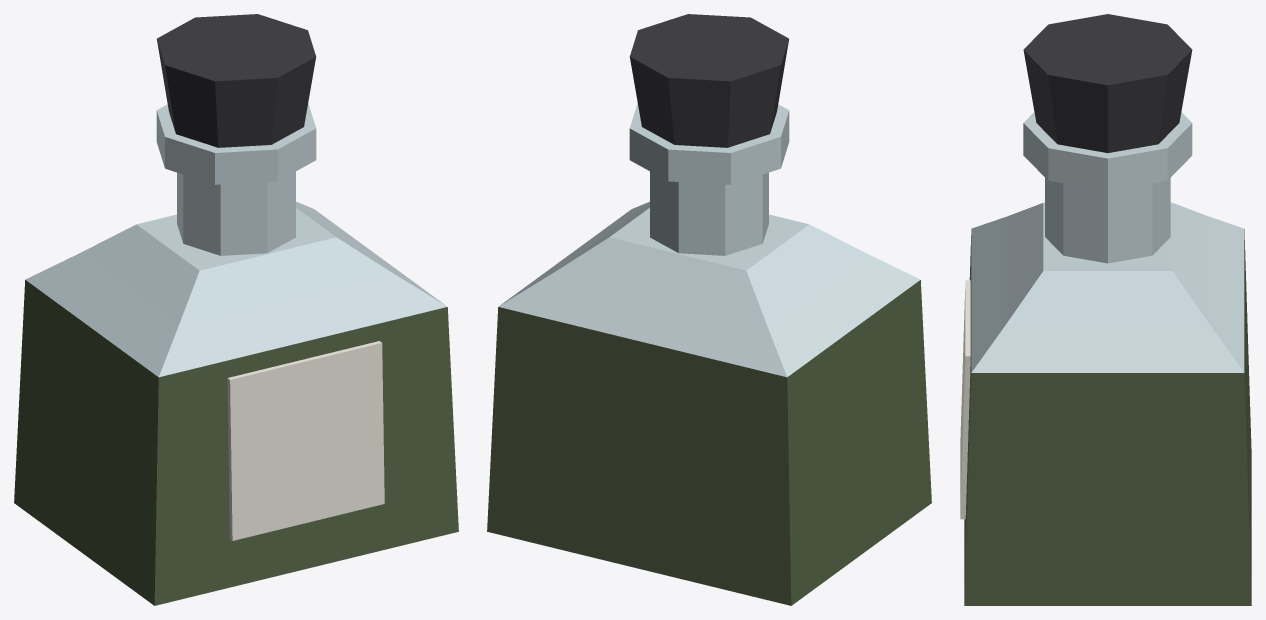
The model's file is vfem2_draught_poison.obj.
The picture shows the model from 3 angles, left to right: view 1: azimuth 30°, elevation 25°; view 2: azimuth 150°, elevation 25°; view 3: azimuth 270°, elevation 25°; orthographic projection. The views are drawn at different scales.
Parts seen in each view (by area): view 1: vfem2_draught_poison; view 2: vfem2_draught_poison; view 3: vfem2_draught_poison.
Part boxes in pixels (x1,y1,x2,y2): vfem2_draught_poison: (14, 14, 458, 605); vfem2_draught_poison: (487, 14, 931, 605); vfem2_draught_poison: (960, 14, 1251, 605).
Size of the model in its own units: 0.2 by 0.295 by 0.1621.
